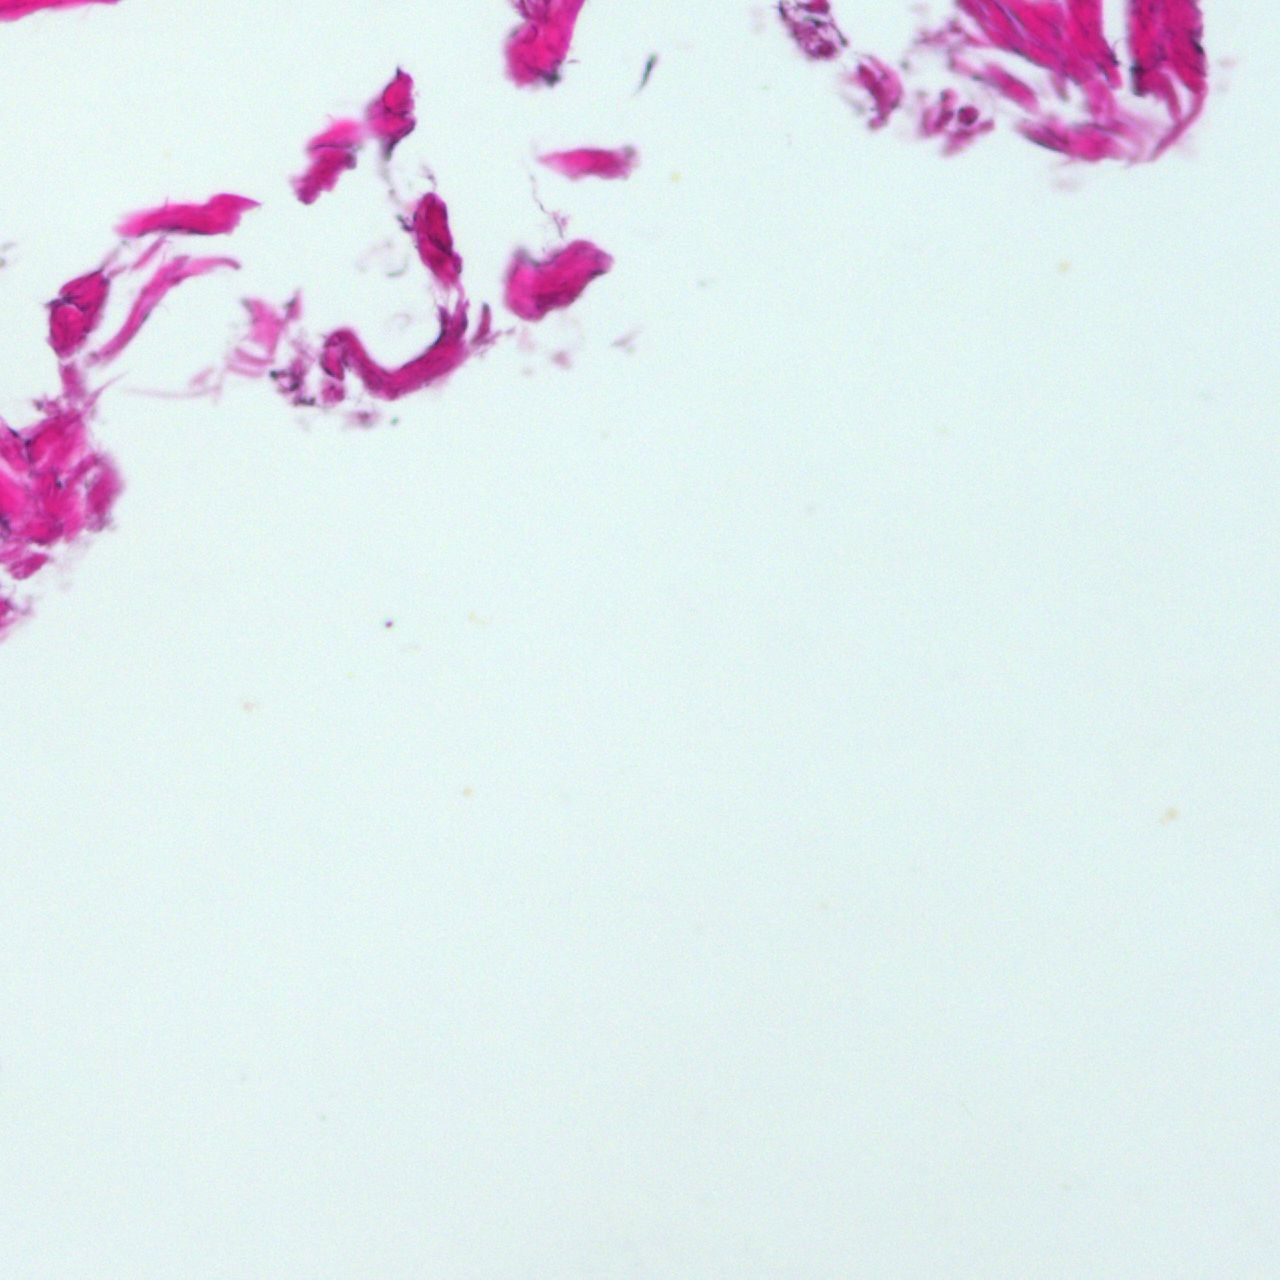dust: (1163, 807, 1176, 819), (1059, 260, 1069, 272), (671, 172, 681, 182), (243, 702, 251, 711), (464, 787, 471, 795)
